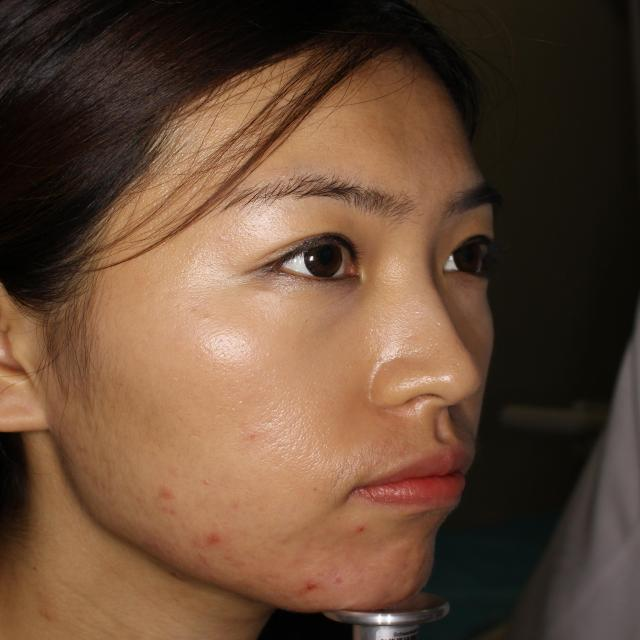pustule: (341, 512, 378, 542), (295, 572, 331, 597), (203, 520, 220, 554), (150, 479, 172, 504), (326, 569, 351, 590), (240, 426, 262, 445)
